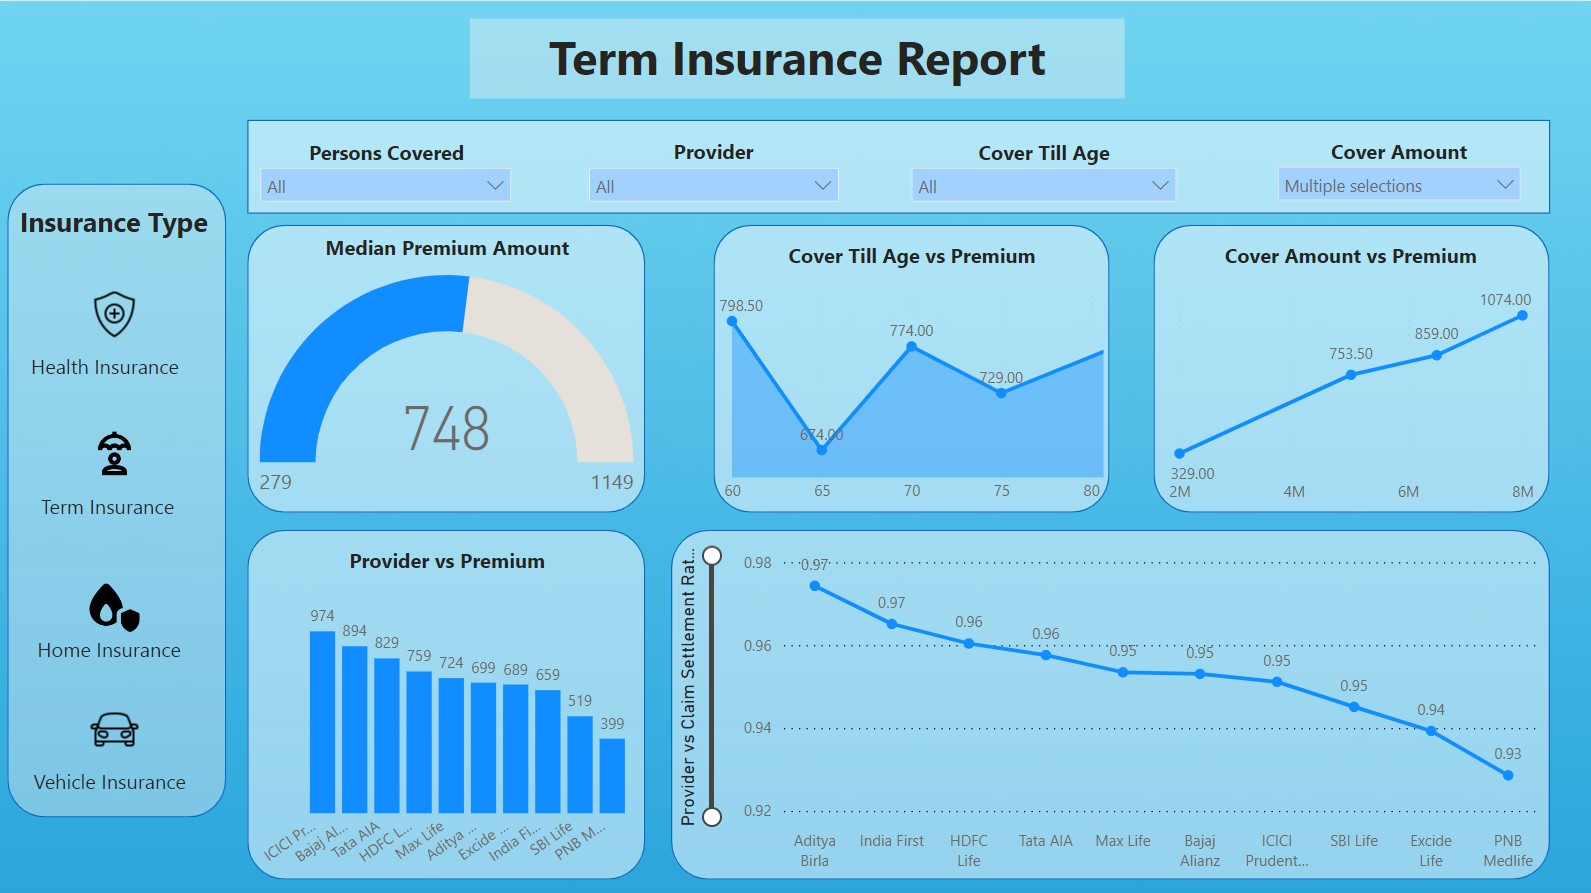

What the dashboard file says about the page in this screenshot:
{"tool":"powerbi","page":{"name":"Term Insurance","canvas":[1280,720],"ordinal":0},"visuals":[{"type":"shape","box":[201.4,178.6,317.1,230],"z":0},{"type":"image","box":[70,558.5,50,50],"z":0,"group":"g1"},{"type":"textbox","box":[378.7,14.5,524.6,63.9],"z":1000},{"type":"image","box":[70,460,50,50],"z":1000,"group":"g1"},{"type":"shape","box":[8.6,145.7,175.7,507.1],"z":2000},{"type":"image","box":[70,338.5,50,50],"z":2000,"group":"g1"},{"type":"image","box":[70,225.7,50,50],"z":3000,"group":"g1"},{"type":"group","id":"g1","title":"Group 1","box":[14.3,157.1,170,484.3],"z":3000},{"type":"textbox","box":[14.3,157.1,170,47.1],"z":4000,"group":"g1"},{"type":"shape","box":[201.4,422.9,317.1,280],"z":4000},{"type":"textbox","box":[22.9,275.7,144.3,38.6],"z":5000,"group":"g1"},{"type":"shape","box":[540,422.9,702.9,280],"z":5000},{"type":"shape","box":[201.4,95.3,1042,74.8],"z":6000},{"type":"textbox","box":[31.4,388.5,130,31.4],"z":6000,"group":"g1"},{"type":"textbox","box":[501.7,103.7,144.7,38.6],"z":7000},{"type":"textbox","box":[28.4,501.9,136.3,32.6],"z":7000,"group":"g1"},{"type":"shape","box":[925.7,178.6,317.1,230],"z":8000},{"type":"textbox","box":[25.7,608.5,142.9,32.9],"z":8000,"group":"g1"},{"type":"shape","box":[574.3,178.6,317.1,230],"z":9000},{"type":"slicer","fields":{"Values":["Sheet1.Person Covered"]},"box":[201.4,123,220.7,47],"z":10000},{"type":"slicer","fields":{"Values":["Sheet1.Provider"]},"box":[464.3,123,219.5,47],"z":11000},{"type":"textbox","box":[240,104.9,144.7,38.6],"z":12000},{"type":"slicer","fields":{"Values":["Sheet1.Cover till age"]},"box":[722.4,123,231.6,47],"z":13000},{"type":"textbox","box":[765.8,104.9,144.7,38.6],"z":14000},{"type":"slicer","fields":{"Values":["Sheet1.Life Cover"]},"box":[1015.5,121.8,214.7,47],"z":15000},{"type":"textbox","box":[1050.5,103.7,144.7,38.6],"z":16000},{"type":"textbox","box":[249.6,180.9,221.9,38.6],"z":17000},{"type":"lineChart","fields":{"Category":["Sheet1.Provider"],"Y":["Median(Sheet1.Incurred Claim Ratio)"]},"box":[540.3,430.6,703.1,272.6],"z":18000},{"type":"clusteredColumnChart","fields":{"Category":["Sheet1.Provider"],"Y":["Median(Sheet1.Premium)"]},"box":[201.4,469.1,317.2,234],"z":19000},{"type":"stackedAreaChart","fields":{"Category":["Sheet1.Cover till age"],"Y":["Median(Sheet1.Premium)"]},"box":[574.1,218.3,317.2,191.8],"z":20000},{"type":"textbox","box":[622.3,186.9,221.9,38.6],"z":21000},{"type":"lineChart","fields":{"Category":["Sheet1.Life Cover"],"Y":["Median(Sheet1.Premium)"]},"box":[932.3,219.5,303.9,191.8],"z":22000},{"type":"textbox","box":[973.3,186.9,221.9,38.6],"z":23000},{"type":"textbox","box":[249.6,430.6,221.9,38.6],"z":24000},{"type":"gauge","fields":{"Y":["Median(Sheet1.Premium)"],"MinValue":["Min(Sheet1.Premium)"],"MaxValue":["Max(Sheet1.Premium)1"]},"box":[206.2,203.8,308.7,212.3],"z":25000}]}

Visuals, with their boxes in screenshot pixels (x1, y1, x2, y2), scaled from the page's 1280x720 canvas onto the 1591x893 screenshot:
shape: bbox=[250, 222, 644, 507]
image: bbox=[87, 693, 149, 755]
textbox: bbox=[471, 18, 1123, 97]
image: bbox=[87, 571, 149, 633]
shape: bbox=[11, 181, 229, 810]
image: bbox=[87, 420, 149, 482]
image: bbox=[87, 280, 149, 342]
"Group 1" group: bbox=[18, 195, 229, 796]
textbox: bbox=[18, 195, 229, 253]
shape: bbox=[250, 525, 644, 872]
textbox: bbox=[28, 342, 208, 390]
shape: bbox=[671, 525, 1545, 872]
shape: bbox=[250, 118, 1546, 211]
textbox: bbox=[39, 482, 201, 521]
textbox: bbox=[624, 129, 803, 176]
textbox: bbox=[35, 622, 205, 663]
shape: bbox=[1151, 222, 1545, 507]
textbox: bbox=[32, 755, 210, 796]
shape: bbox=[714, 222, 1108, 507]
slicer - Sheet1.Person Covered: bbox=[250, 153, 525, 211]
slicer - Sheet1.Provider: bbox=[577, 153, 850, 211]
textbox: bbox=[298, 130, 478, 178]
slicer - Sheet1.Cover till age: bbox=[898, 153, 1186, 211]
textbox: bbox=[952, 130, 1132, 178]
slicer - Sheet1.Life Cover: bbox=[1262, 151, 1529, 209]
textbox: bbox=[1306, 129, 1486, 176]
textbox: bbox=[310, 224, 586, 272]
lineChart - Sheet1.Provider x Median(Sheet1.Incurred Claim Ratio): bbox=[672, 534, 1546, 872]
clusteredColumnChart - Sheet1.Provider x Median(Sheet1.Premium): bbox=[250, 582, 645, 872]
stackedAreaChart - Sheet1.Cover till age x Median(Sheet1.Premium): bbox=[714, 271, 1108, 509]
textbox: bbox=[773, 232, 1049, 280]
lineChart - Sheet1.Life Cover x Median(Sheet1.Premium): bbox=[1159, 272, 1537, 510]
textbox: bbox=[1210, 232, 1486, 280]
textbox: bbox=[310, 534, 586, 582]
gauge - Median(Sheet1.Premium) x Min(Sheet1.Premium): bbox=[256, 253, 640, 516]
